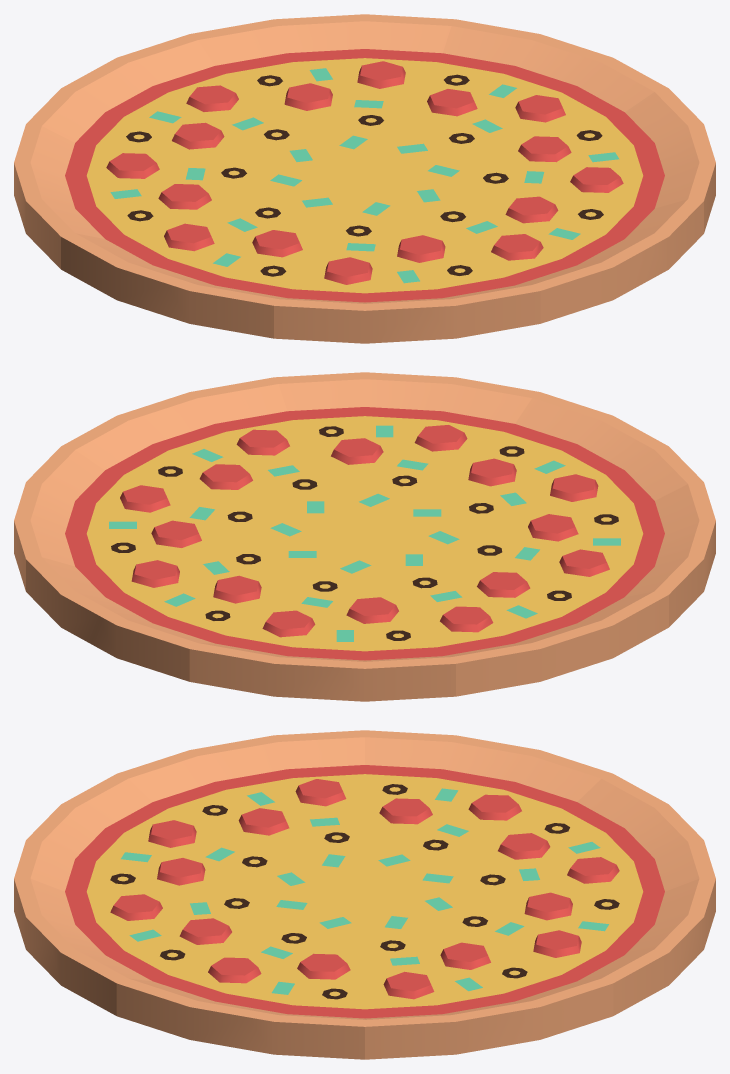
Rendered from Pizza.glb.
The picture shows the model from 3 angles, top to bottom: view 1: azimuth 30°, elevation 25°; view 2: azimuth 150°, elevation 25°; view 3: azimuth 270°, elevation 25°; orthographic projection.
Visible parts, largest first — view 1: slice7, slice8, slice6, slice3, slice4, slice2, slice1, slice5; view 2: slice2, slice1, slice3, slice6, slice5, slice7, slice8, slice4; view 3: slice4, slice5, slice1, slice8, slice3, slice6, slice2, slice7.
Boxes of the visible parts, x1,y1,x2,y2 form: slice7: (274, 176, 540, 343); slice8: (61, 176, 364, 338); slice6: (365, 175, 703, 323); slice3: (190, 14, 455, 175); slice4: (365, 19, 668, 175); slice2: (26, 34, 364, 175); slice1: (14, 124, 364, 268); slice5: (366, 88, 715, 232); slice2: (189, 534, 455, 701); slice1: (365, 534, 668, 696); slice3: (26, 533, 364, 681); slice6: (274, 372, 539, 533); slice5: (61, 377, 364, 533); slice7: (365, 392, 703, 533); slice8: (365, 482, 715, 626); slice4: (14, 446, 363, 590); slice4: (365, 892, 613, 1059); slice5: (116, 892, 364, 1059); slice1: (365, 730, 612, 891); slice8: (117, 730, 364, 891); slice3: (365, 878, 715, 1015); slice6: (14, 878, 364, 1015); slice2: (366, 774, 715, 891); slice7: (14, 774, 363, 891).
Bounding box in the file's own units: 0.8418 × 0.0435 × 0.8418.
